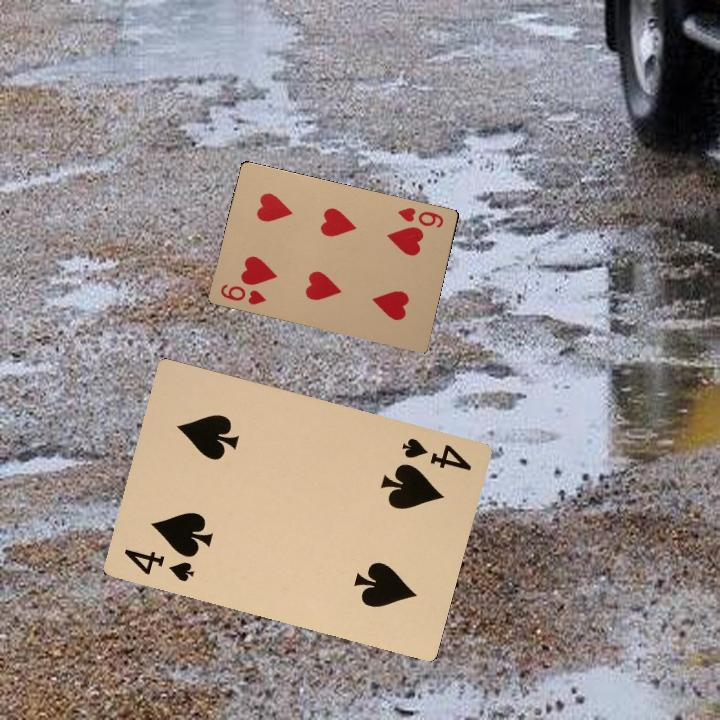4s: (120, 544, 197, 584), (398, 434, 474, 474)
6h: (395, 203, 446, 231), (216, 280, 268, 307)
